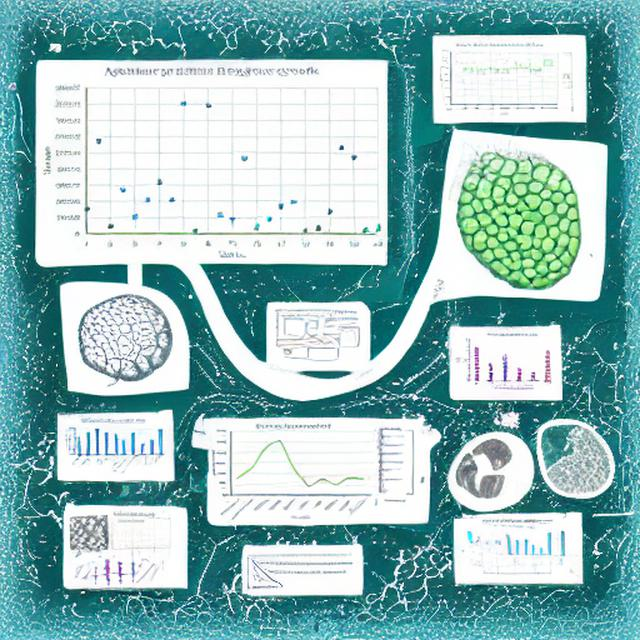Graph: (38, 64, 384, 261), (210, 423, 374, 521), (435, 41, 562, 116), (61, 417, 167, 479), (453, 331, 557, 391), (496, 525, 555, 560), (107, 520, 159, 551)
